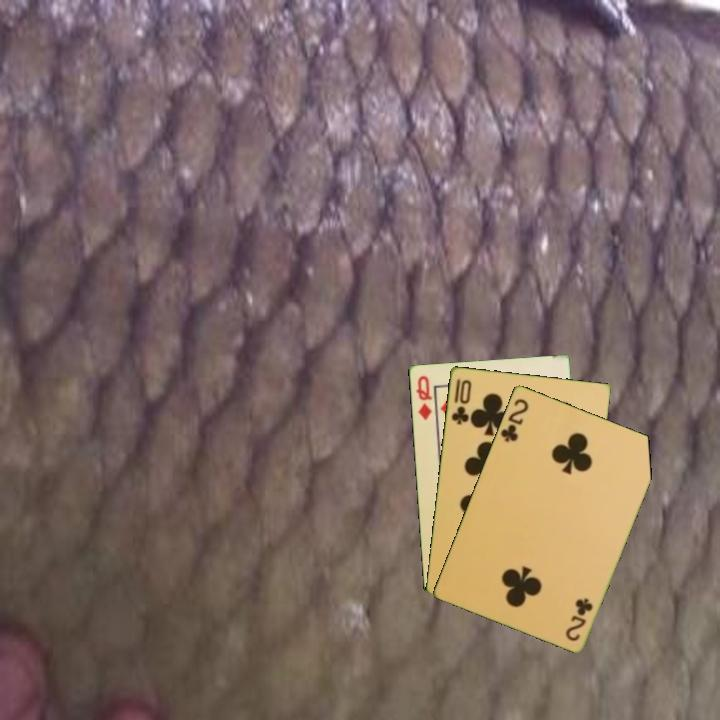10c: (448, 375, 474, 427)
2c: (497, 395, 531, 445), (562, 594, 596, 644)
Qd: (412, 372, 435, 423)
